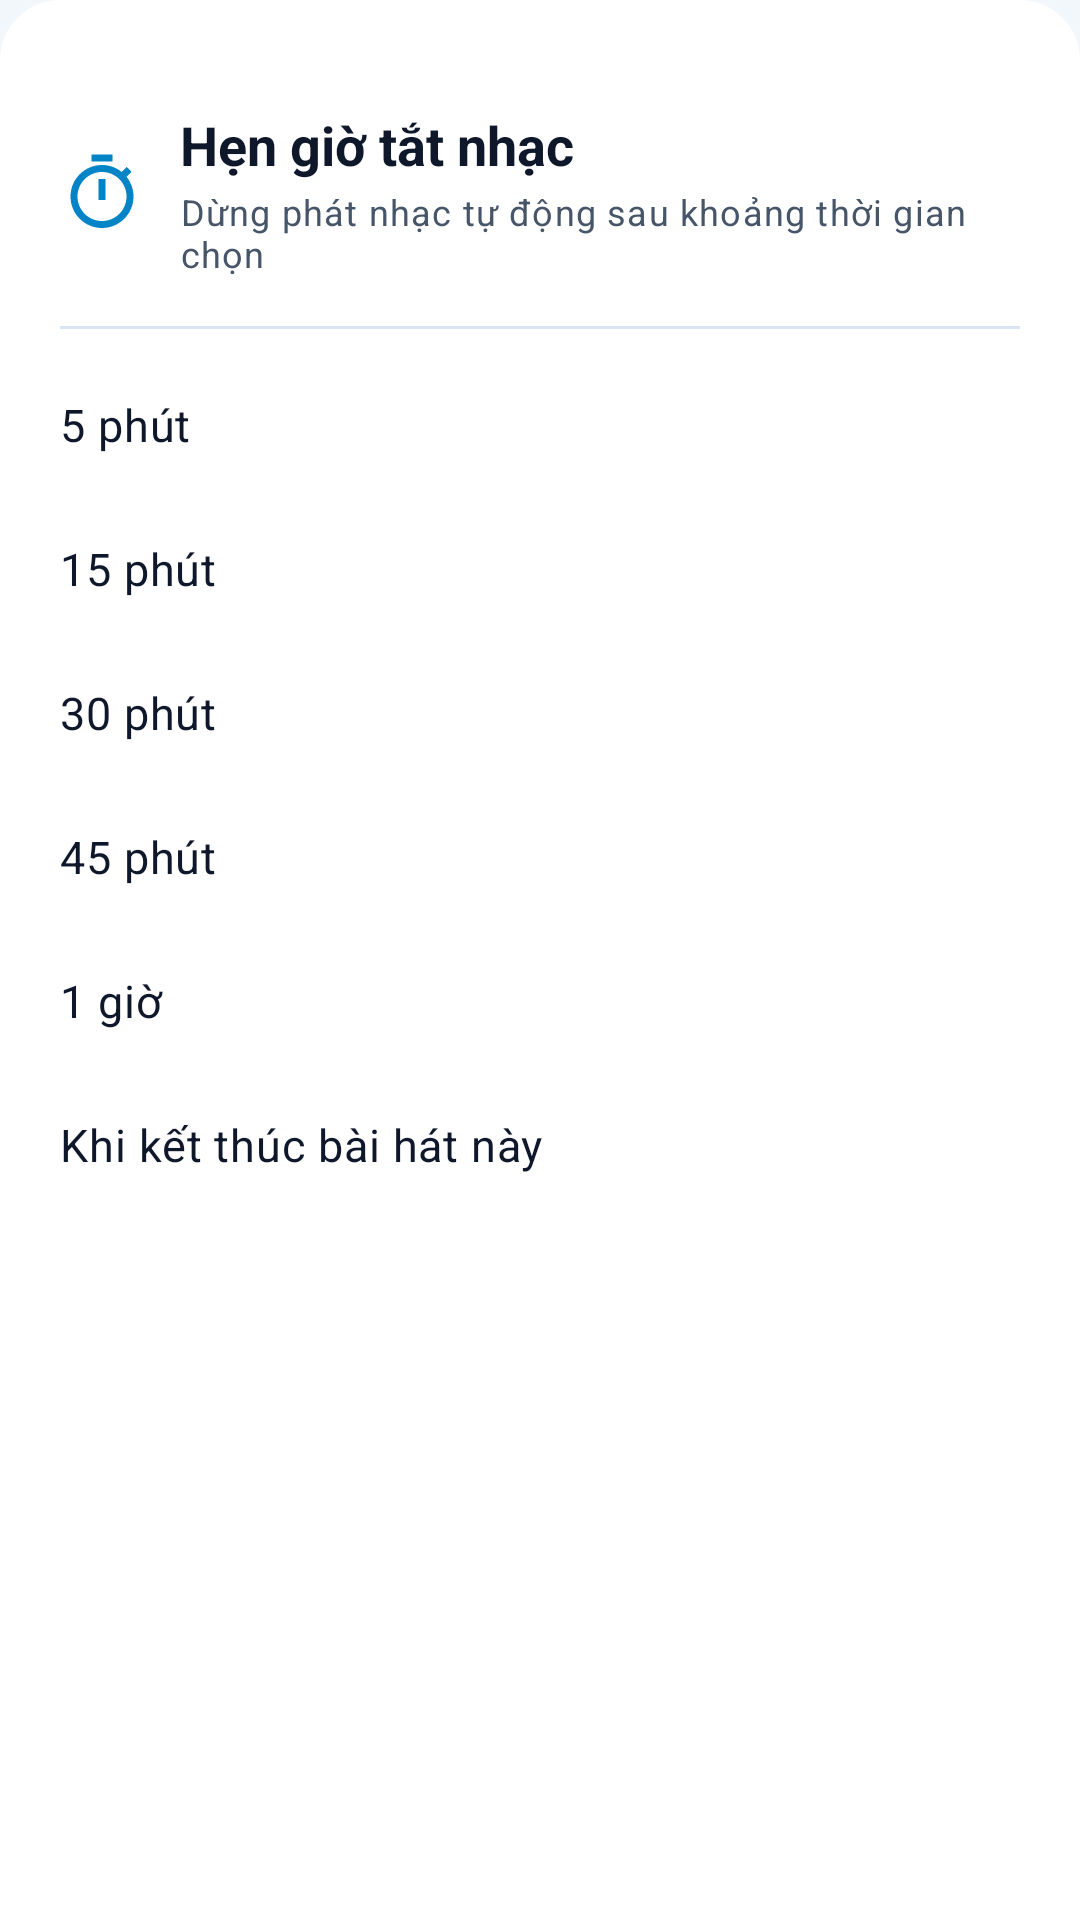

Where icons sit on this 1080px×1920px app screen, as (x1, y1, x2, y2):
timer: (70, 154, 134, 228)
